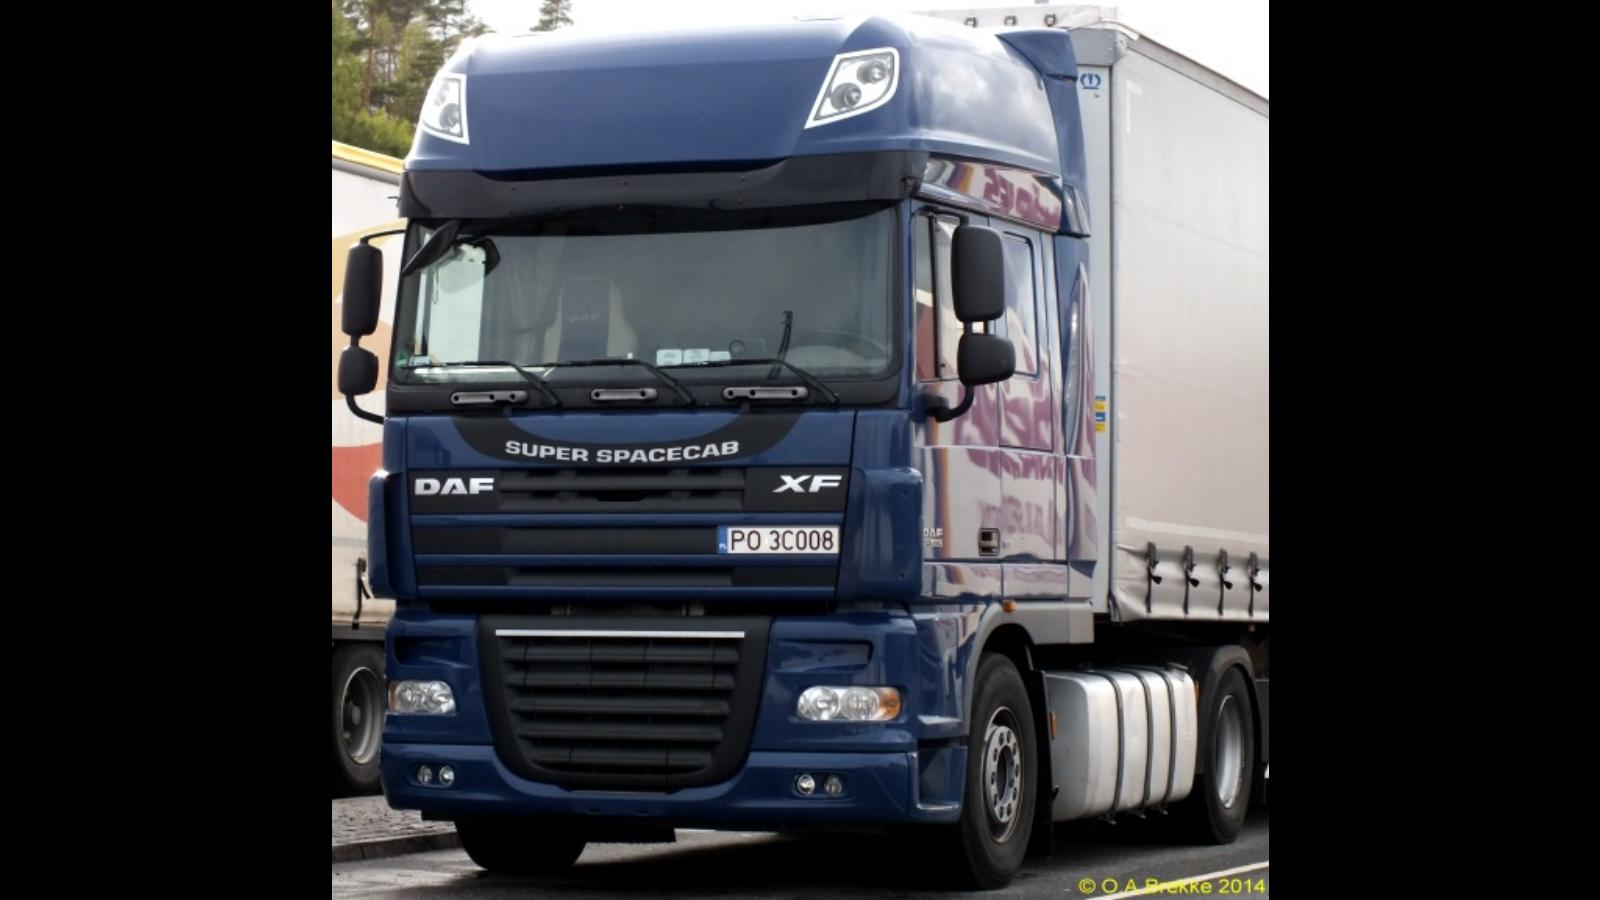plates: (715, 526, 839, 554)
